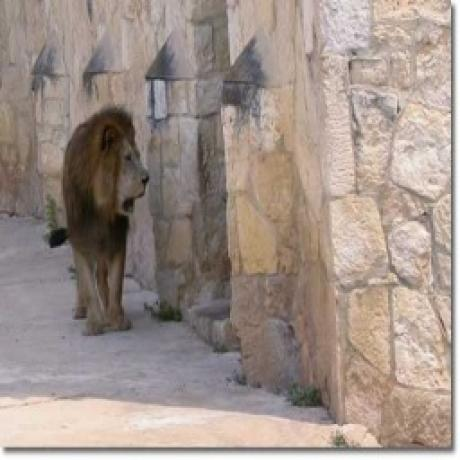Lion: (44, 102, 154, 339)
